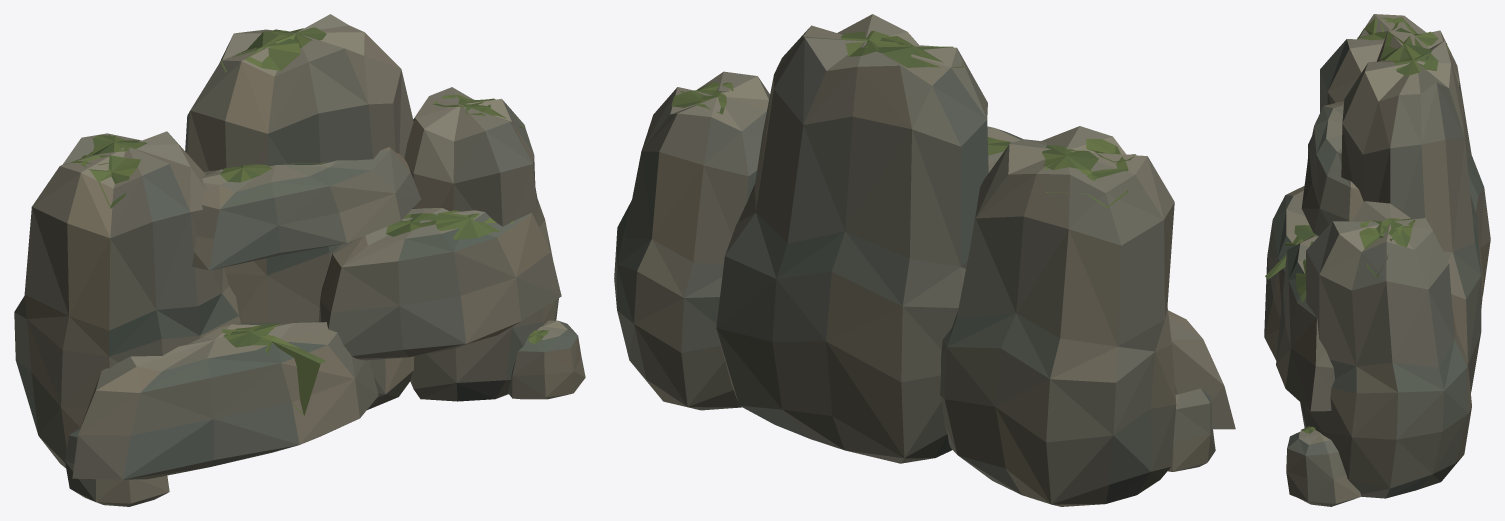
Rendered from valley-cliff-ledge.glb.
3 renders of one model, left to right at view 1: azimuth 30°, elevation 25°; view 2: azimuth 150°, elevation 25°; view 3: azimuth 270°, elevation 25°, orthographic. The views are drawn at different scales.
Visible parts, largest first — view 1: weathered-stone-and-moss; view 2: weathered-stone-and-moss; view 3: weathered-stone-and-moss.
Boxes of the visible parts, box(x1,y1,x2,y2) form: weathered-stone-and-moss: box(14, 14, 585, 506); weathered-stone-and-moss: box(614, 14, 1235, 506); weathered-stone-and-moss: box(1264, 14, 1490, 506).
Size of the model in its own units: 3 by 2 by 1.2.
